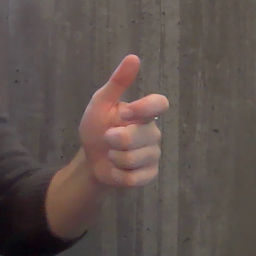G: (73, 52, 174, 193)
